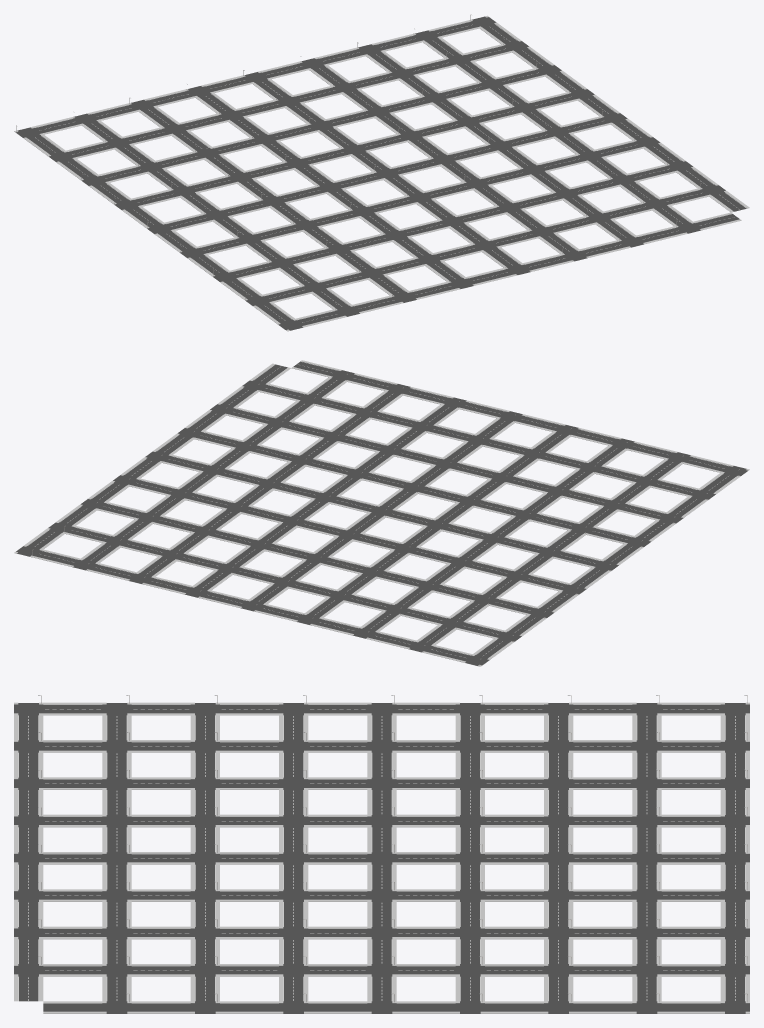
File: road.gltf
3 views of the same model, one above another, from view 1: azimuth 30°, elevation 25°; view 2: azimuth 150°, elevation 25°; view 3: azimuth 270°, elevation 25° (orthographic). The views are drawn at different scales.
Bounding box in the file's own units: 500 × 6.43 × 500.
Materials: 3 (3 with a texture image).
